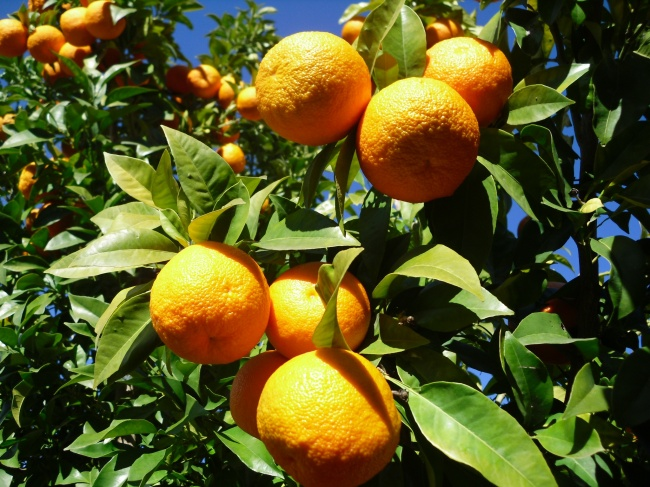orange: (256, 349, 396, 483), (355, 76, 477, 203), (148, 241, 269, 365), (255, 31, 370, 144), (262, 262, 370, 364), (410, 37, 511, 140), (231, 353, 322, 436), (341, 12, 403, 67), (414, 3, 460, 57), (59, 7, 97, 46), (86, 1, 121, 39), (29, 26, 65, 61), (19, 161, 52, 196), (185, 64, 219, 97), (1, 19, 26, 60), (235, 84, 264, 117), (216, 141, 244, 173), (216, 73, 239, 104)
